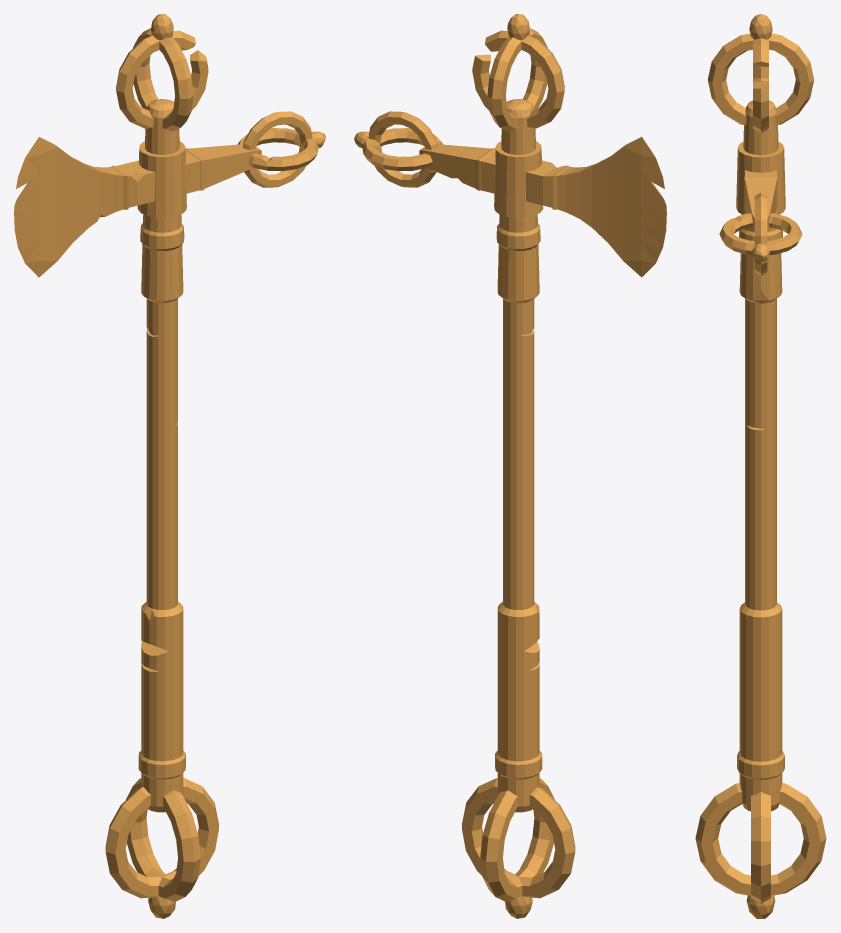
Rendered from Ritual axe.fbx.
The picture shows the model from 3 angles, left to right: view 1: azimuth 30°, elevation 25°; view 2: azimuth 150°, elevation 25°; view 3: azimuth 270°, elevation 25°; orthographic projection.
Visible parts, largest first — view 1: Axe 2; view 2: Axe 2; view 3: Axe 2.
Boxes of the visible parts, x1=… form: Axe 2: x1=14, y1=14, x2=325, y2=918; Axe 2: x1=354, y1=14, x2=666, y2=918; Axe 2: x1=695, y1=14, x2=826, y2=918.
Bounding box in the file's own units: 0.4418 × 1.23 × 0.161.
